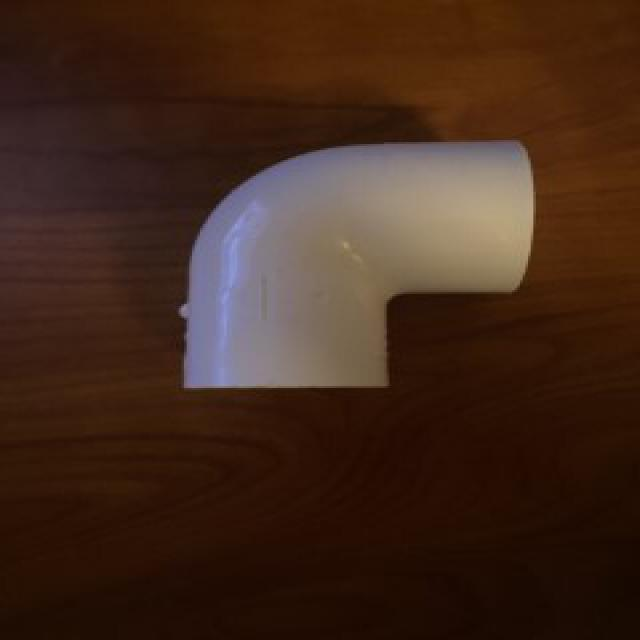L Joint: (181, 140, 536, 390)
